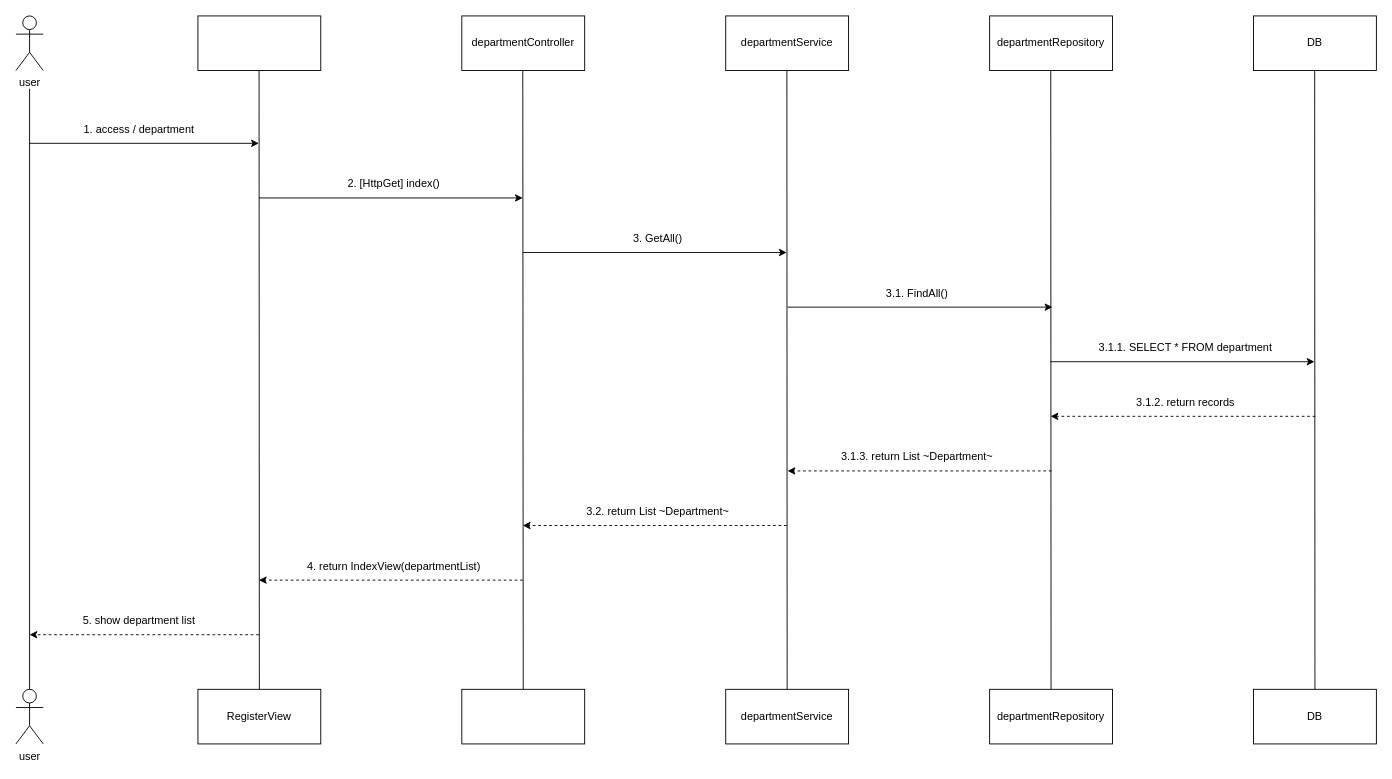
Some shapes in this 1392 by 779 pixel diagram are drawn without their labels. The shapes that lost their labels are listed below. From the top down, each one's centre as x and y in pixels, then its label:
At [259,43]: "IndexView".
At [523,716]: "employeeController".
